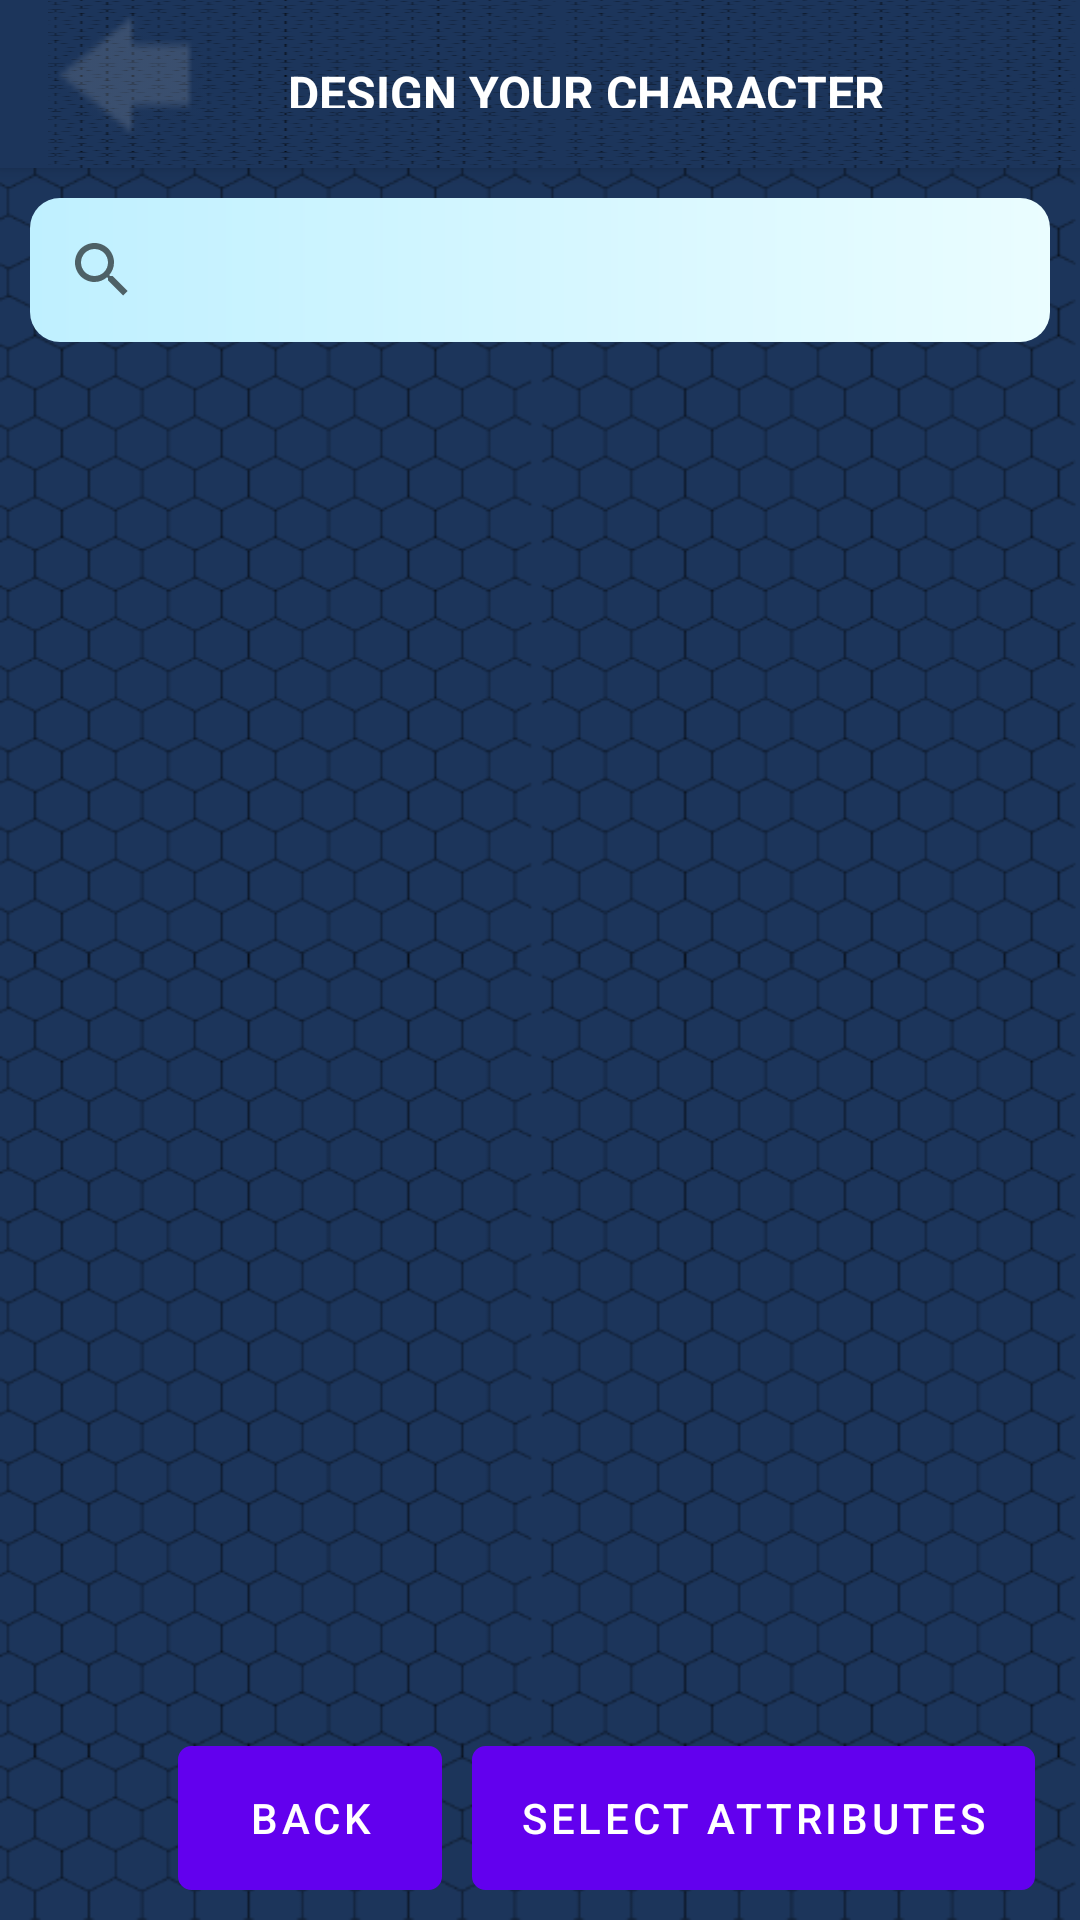

Where to tap for icons on this 1080×1920 app screen, as [x,y]:
previous: [139,84]
